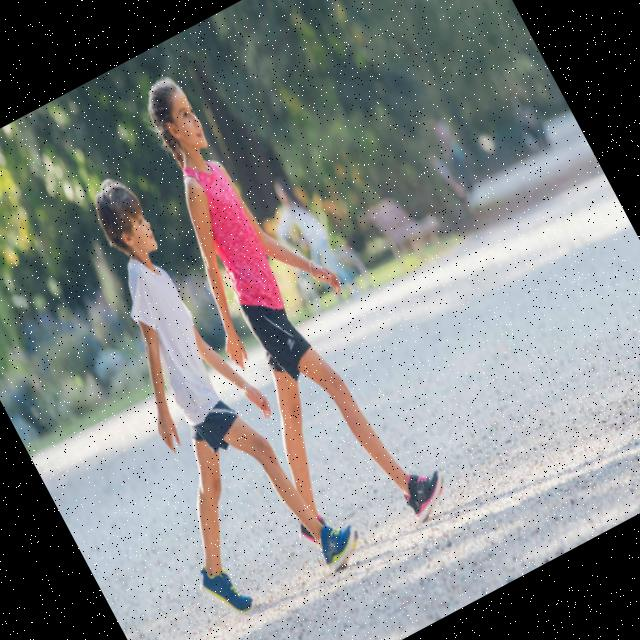Person: (79, 48, 458, 576), (12, 153, 366, 624)
